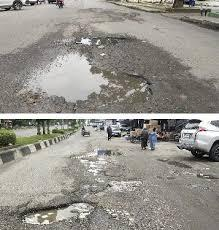Pothole: (22, 33, 153, 112), (20, 148, 147, 226), (153, 154, 217, 187)
